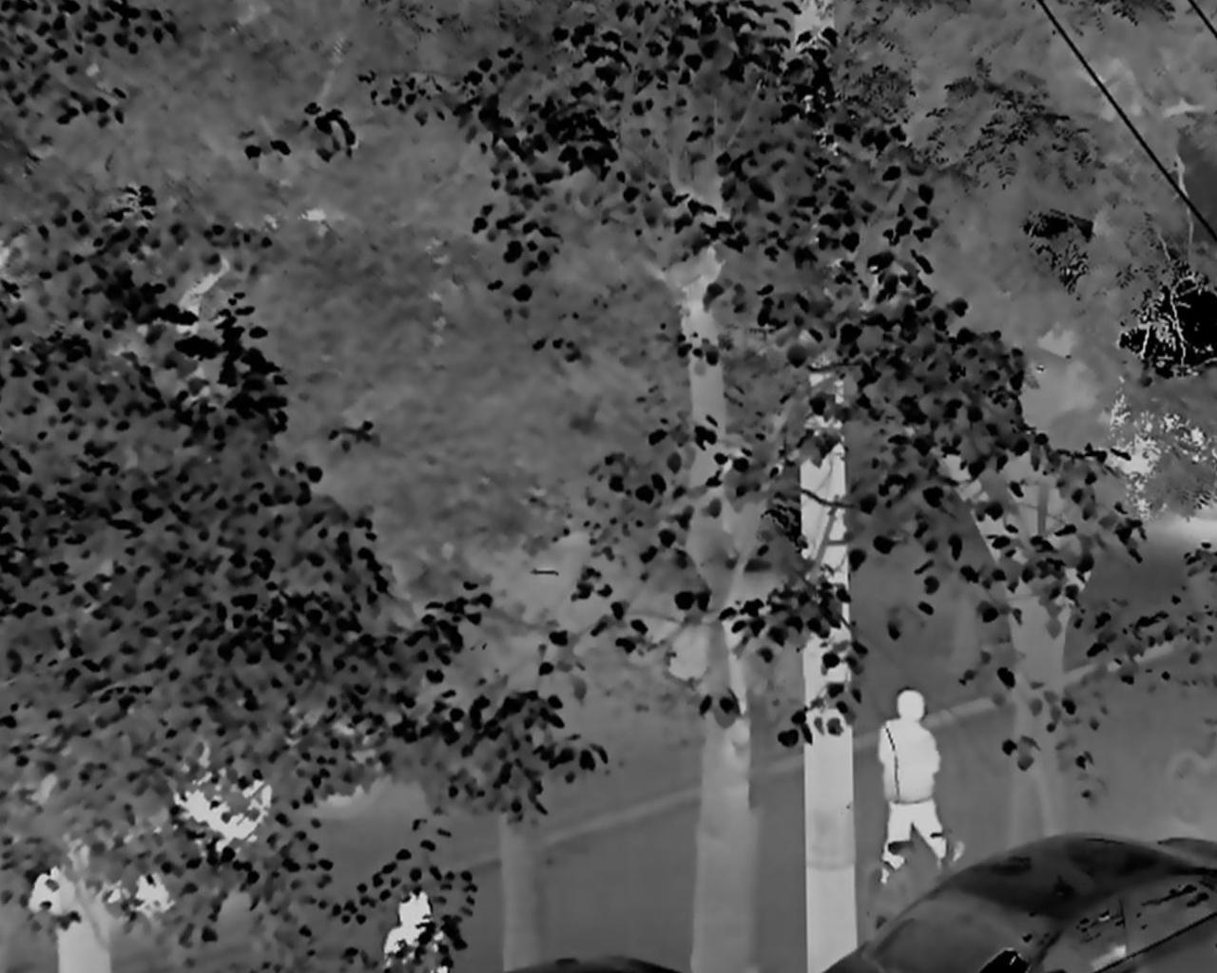person: (878, 686, 964, 891)
